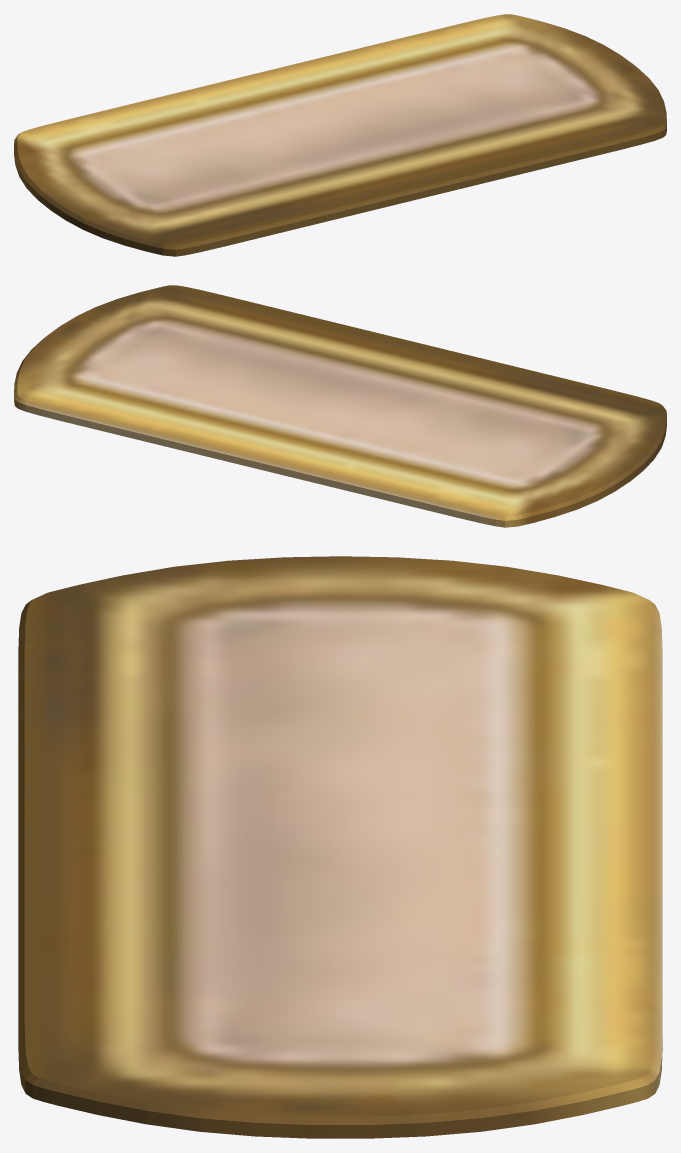
File: Button_Small.glb
The picture shows the model from 3 angles, top to bottom: view 1: azimuth 30°, elevation 25°; view 2: azimuth 150°, elevation 25°; view 3: azimuth 270°, elevation 25°; orthographic projection. The views are drawn at different scales.
Visible parts, largest first — view 1: Button; view 2: Button; view 3: Button.
Boxes of the visible parts, x1,y1,x2,y2 form: Button: (14, 14, 666, 256); Button: (14, 285, 666, 527); Button: (18, 556, 662, 1138).
Bounding box in the file's own units: 1.5 × 0.024 × 0.7197.
Materials: 1 (1 with a texture image).
